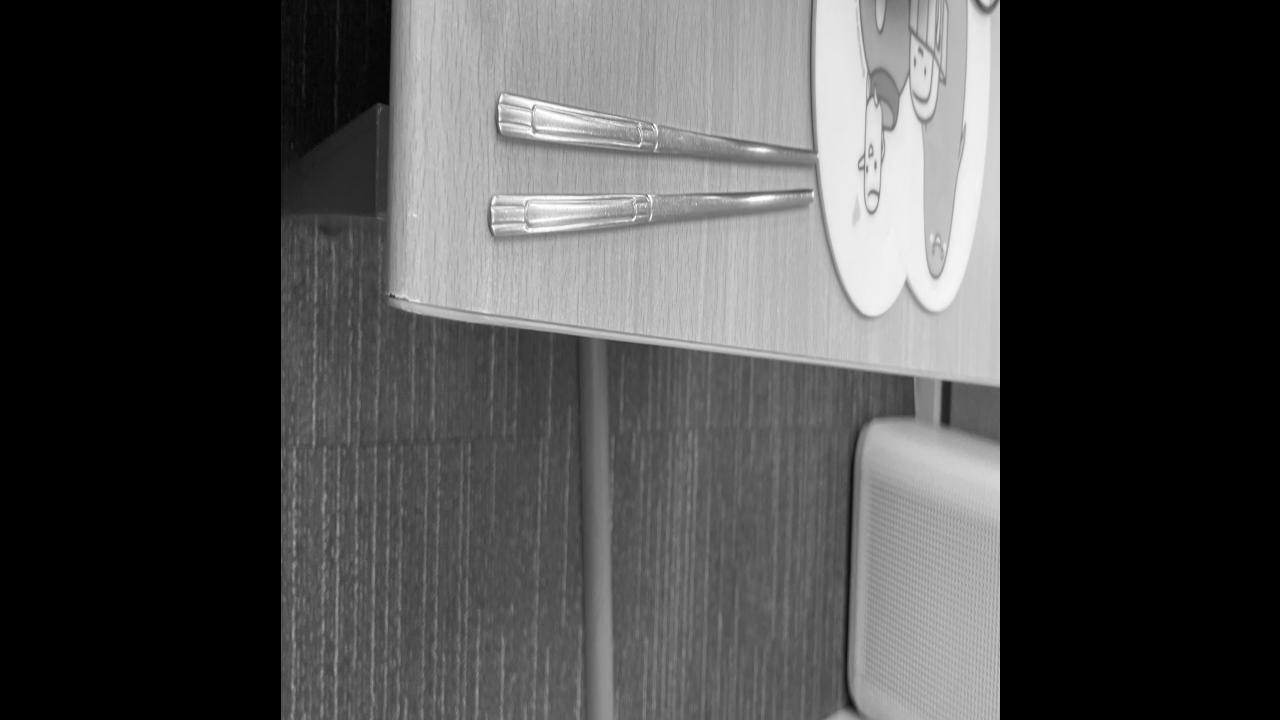chopstick: (492, 95, 816, 236)
